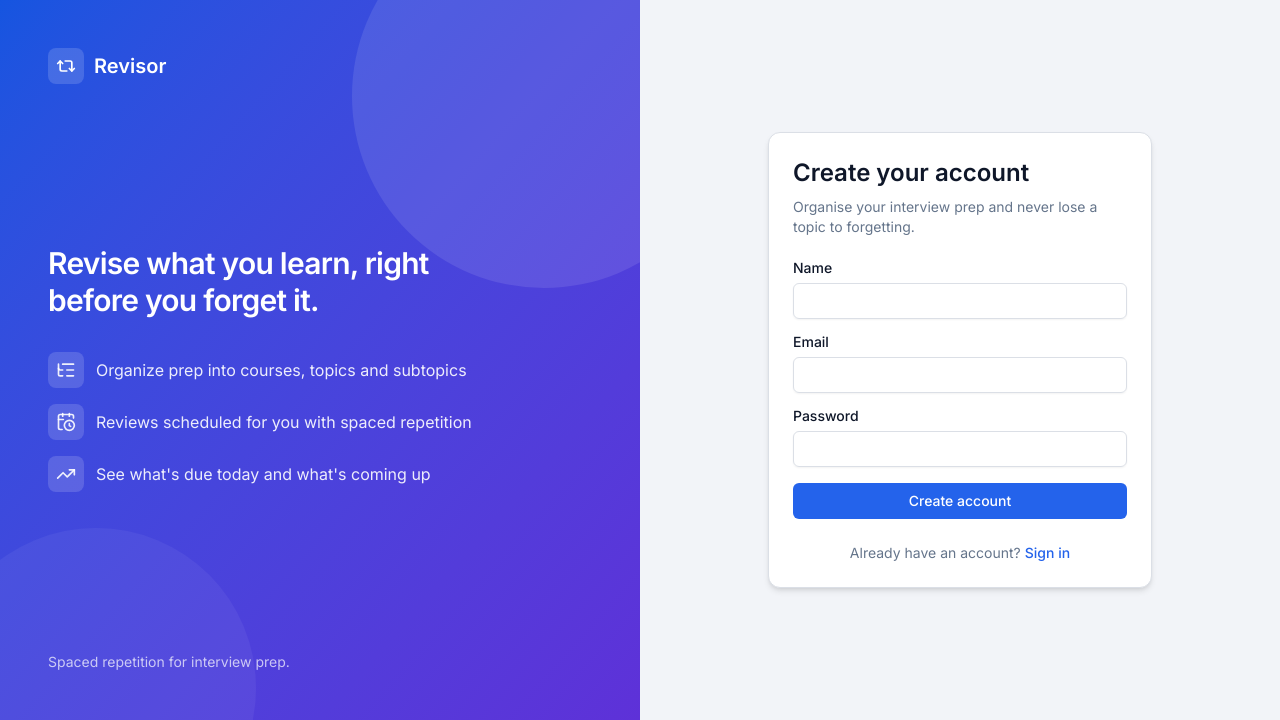
Test: SignupPage › puts a duplicate-email error on the email field itself
Type "Ann" into the field labelled "Name" at (960, 301), box x1=793 y1=283 x2=1127 y2=319
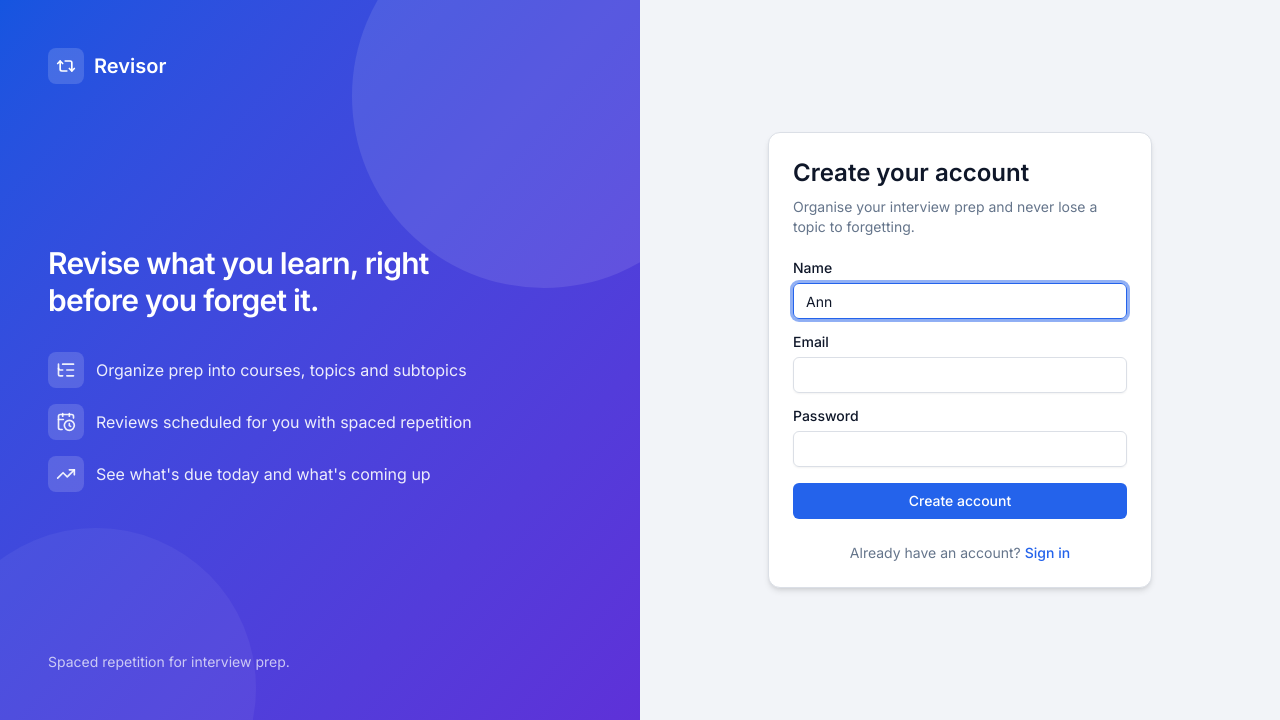
Type "ann@example.com" into the field labelled "Email" at (960, 375), box x1=793 y1=357 x2=1127 y2=393
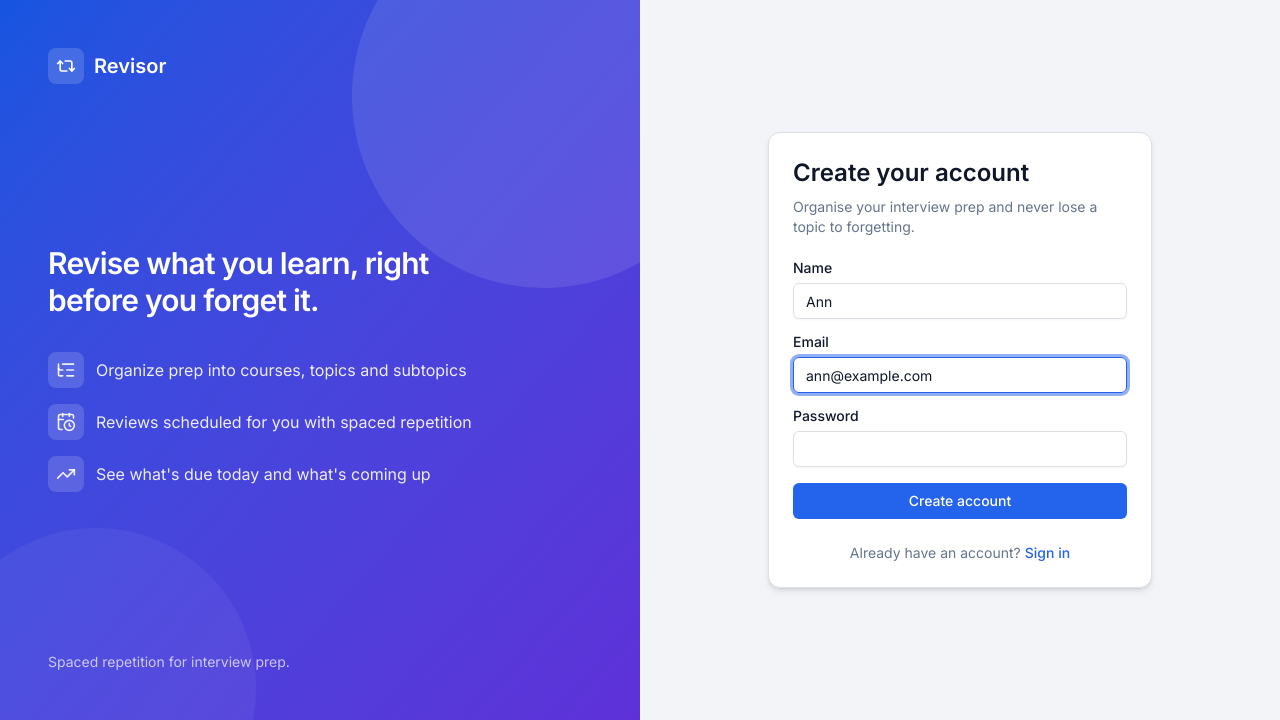
Type "correct-horse" into the password field labelled "Password" at (960, 449), box x1=793 y1=431 x2=1127 y2=467
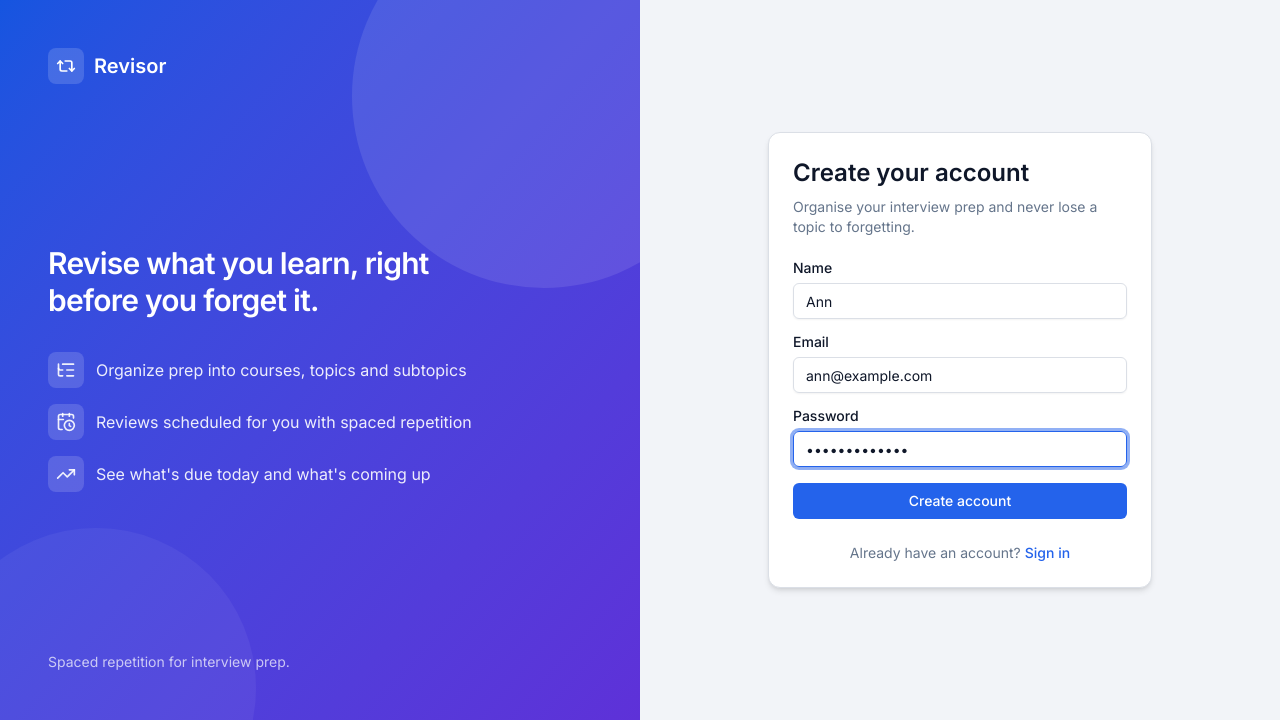
Click the button "Create account" at (960, 501), box x1=793 y1=483 x2=1127 y2=519
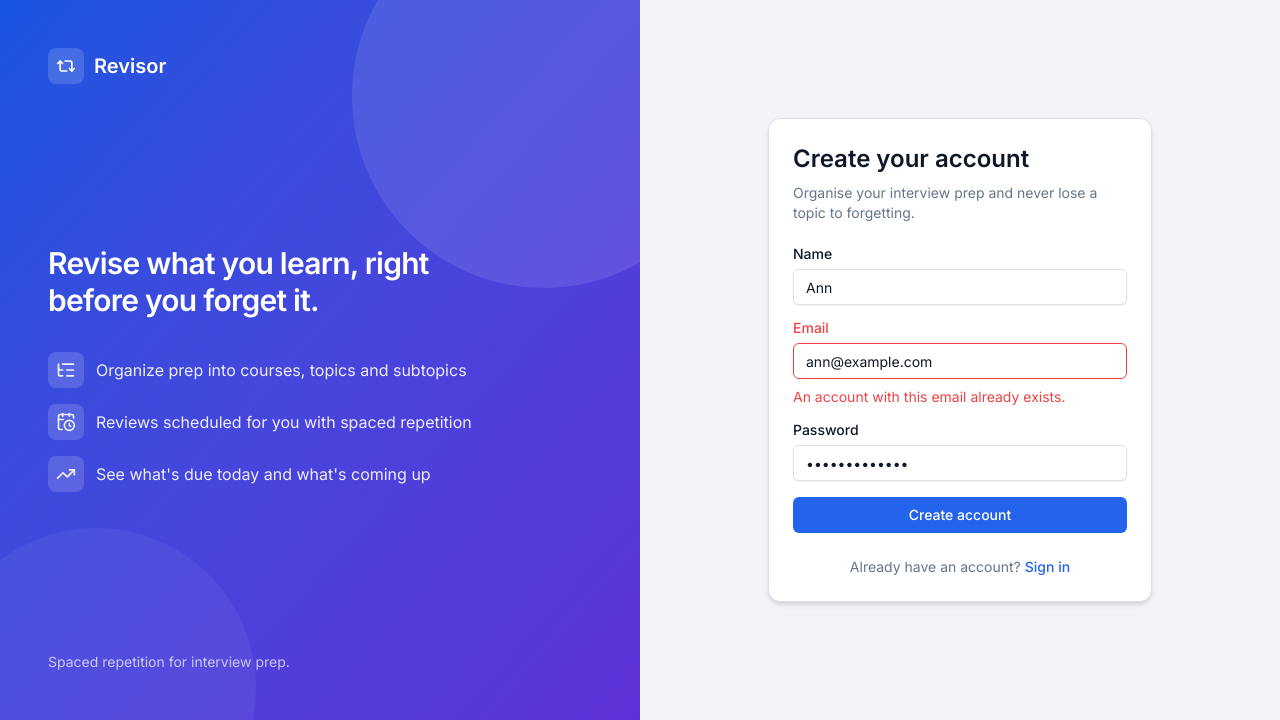
Result: the text "An account with this email already exists." is shown at x1=793 y1=388 x2=1066 y2=405
